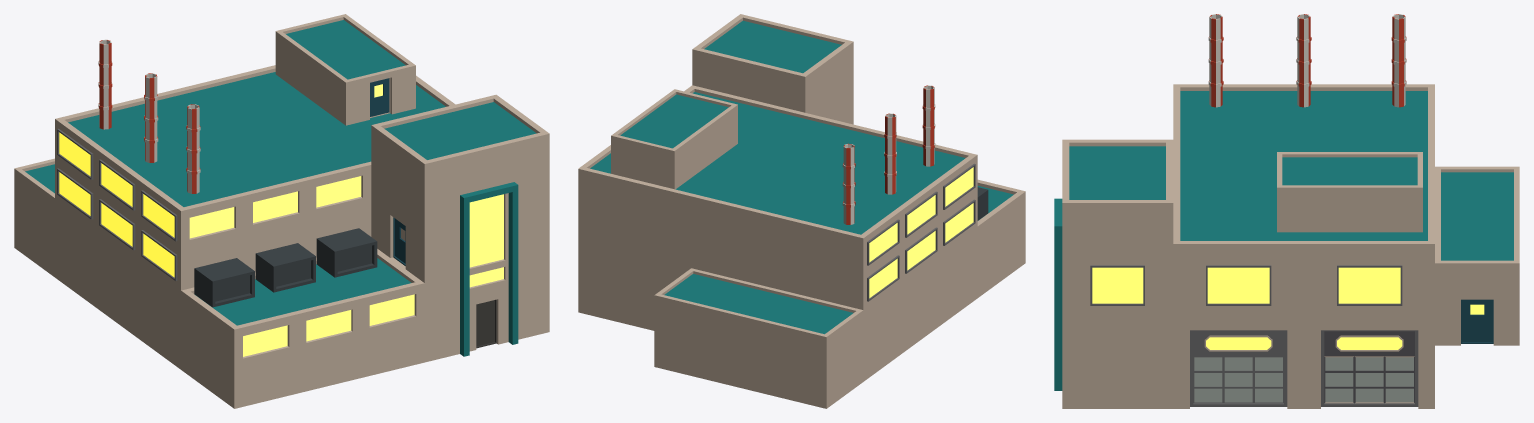
Rendered from SM_RTS_01.glb.
The picture shows the model from 3 angles, left to right: view 1: azimuth 30°, elevation 25°; view 2: azimuth 150°, elevation 25°; view 3: azimuth 270°, elevation 25°; orthographic projection. The views are drawn at different scales.
Visible parts, largest first — view 1: SM_RTS_01; view 2: SM_RTS_01; view 3: SM_RTS_01.
Boxes of the visible parts, x1,y1,x2,y2 form: SM_RTS_01: (14,14,549,408); SM_RTS_01: (578,14,1025,408); SM_RTS_01: (1054,14,1519,408).
Bounding box in the file's own units: 18.04 × 12.99 × 22.
Materials: 2 (1 with a texture image).
